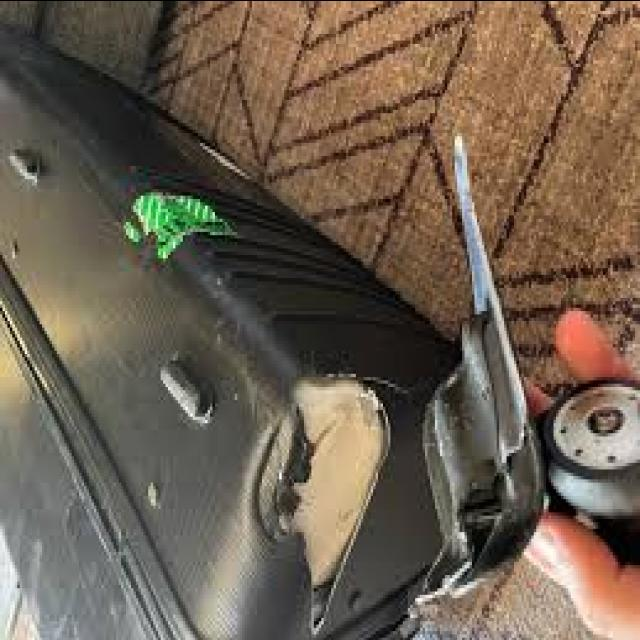Damage-bag: (416, 134, 546, 601), (259, 375, 391, 633), (123, 191, 234, 260), (360, 375, 415, 393)
